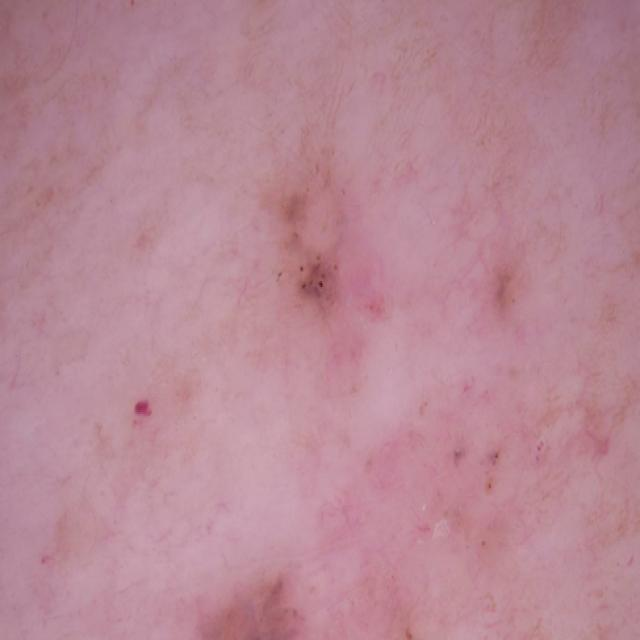Carcinoma: (265, 144, 393, 350), (175, 522, 330, 640), (484, 252, 553, 346), (126, 383, 173, 452)
